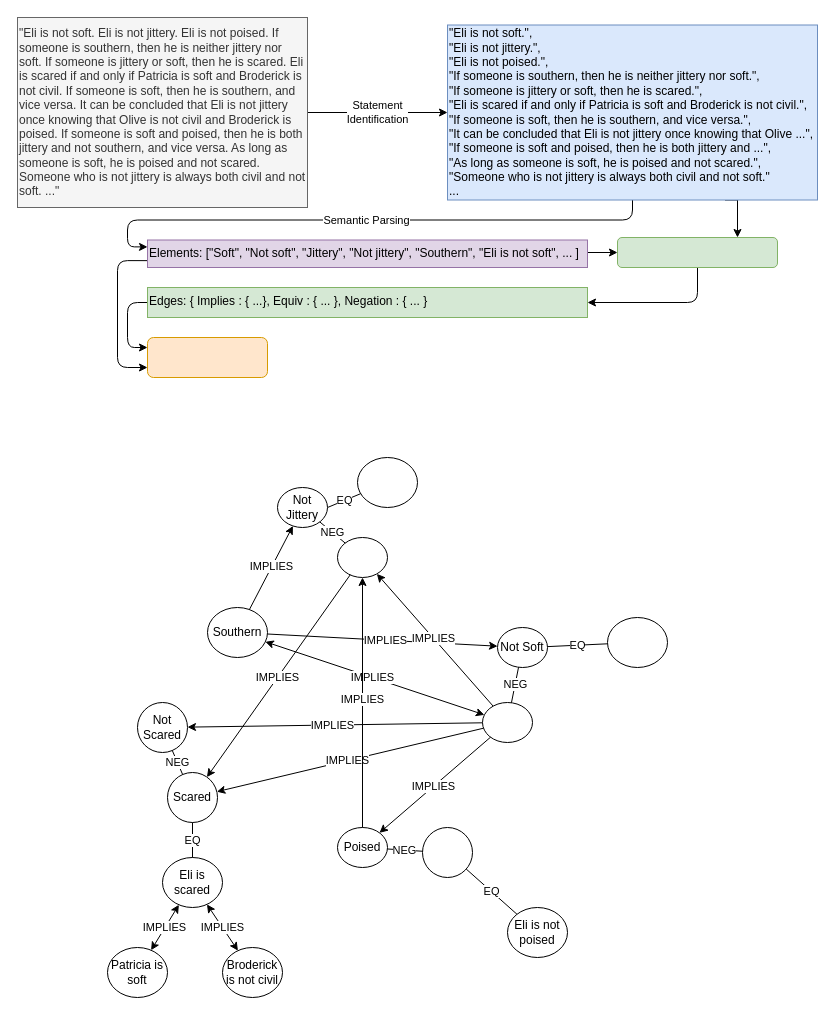
The diagram is 835 pixels wide and 1015 high, and some of its shapes have lost their labels. Each missing label, with the centre of its shape:
Eli is not jittery: [387,482]
Eli is not soft: [637,642]
Graph Visualizer: [207,357]
Jittery: [362,557]
Logic Classification Probes: [697,252]
Not Poised: [447,852]
Soft: [507,722]
